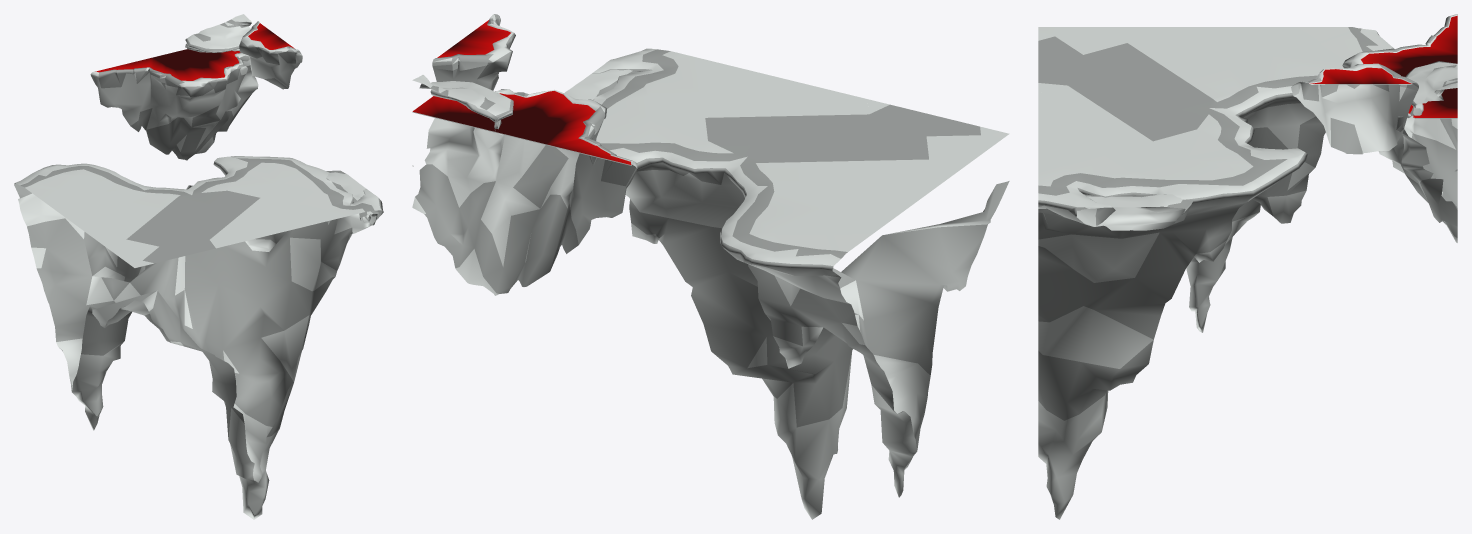
The picture shows the model from 3 angles, left to right: view 1: azimuth 30°, elevation 25°; view 2: azimuth 150°, elevation 25°; view 3: azimuth 270°, elevation 25°; orthographic projection. The views are drawn at different scales.
Parts seen in each view (by area): view 1: G:\FFXIV-MapTools\exports\a2f1\bg\ex1\03_abr_a2\fld\a2f1\bgp (×13); view 2: G:\FFXIV-MapTools\exports\a2f1\bg\ex1\03_abr_a2\fld\a2f1\bgp (×13); view 3: G:\FFXIV-MapTools\exports\a2f1\bg\ex1\03_abr_a2\fld\a2f1\bgp (×13).
Part boxes in pixels (<box>): G:\FFXIV-MapTools\exports\a2f1\bg\ex1\03_abr_a2\fld\a2f1\bgp (×13): <box>14,14,383,519</box>; G:\FFXIV-MapTools\exports\a2f1\bg\ex1\03_abr_a2\fld\a2f1\bgp (×13): <box>412,14,1009,519</box>; G:\FFXIV-MapTools\exports\a2f1\bg\ex1\03_abr_a2\fld\a2f1\bgp (×13): <box>1038,14,1457,519</box>.
Size of the model in its own units: 128 by 178 by 128.
